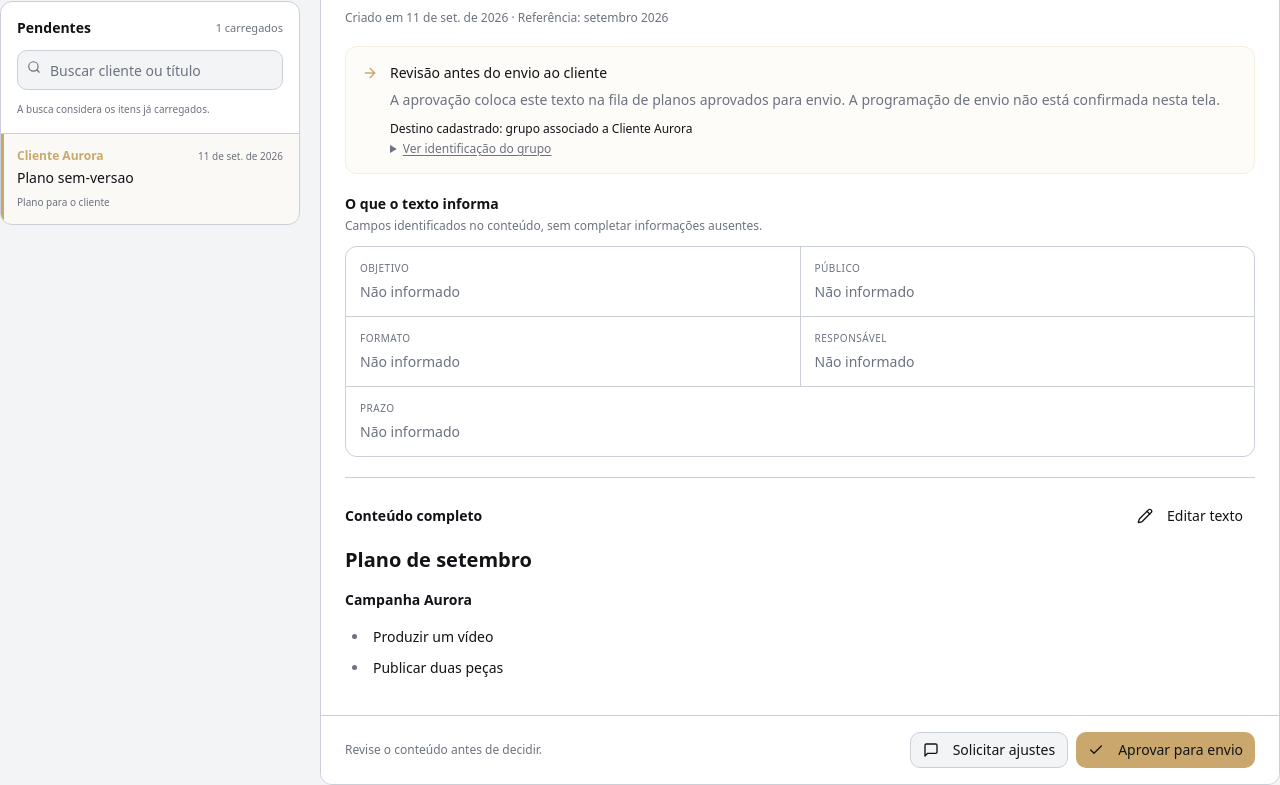
Test: Destino e confirmação da aprovação › bloqueia gravação sem versão confiável do conteúdo (null)
(page scrolled)
Click the button "Aprovar para envio": x=1166, y=750 [1076,732,1255,768]
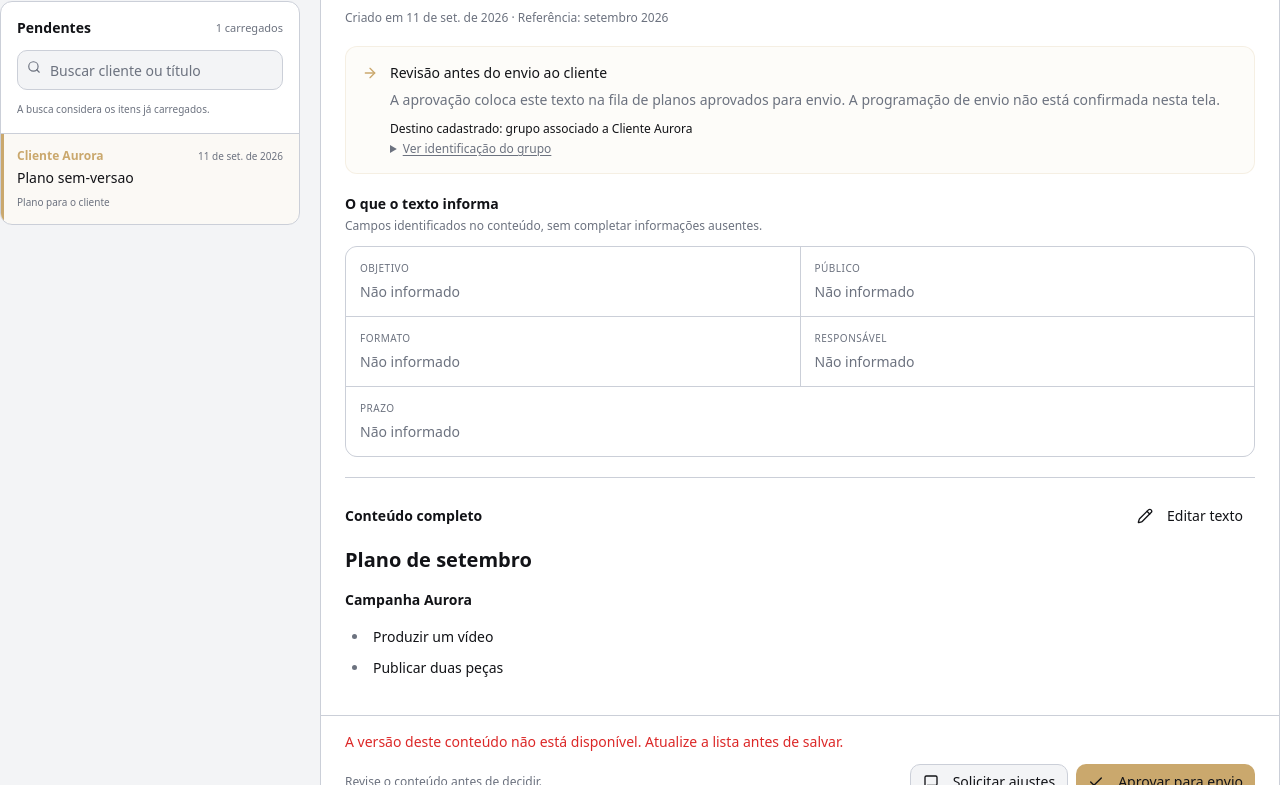
Result: the message shows "Atualiz" at [345,732,843,751]
